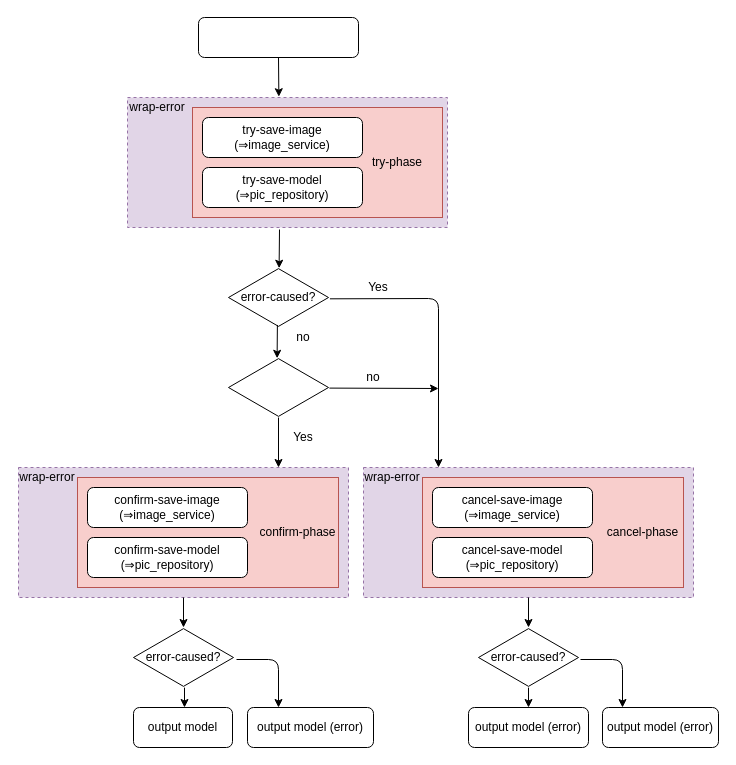
This 736x765 diagram has some shape labels left out. Here are the shapes that lost their labels. From the top down, the box of each, then its label:
(198, 16, 358, 58): input model
(228, 356, 328, 418): try-succeed?
